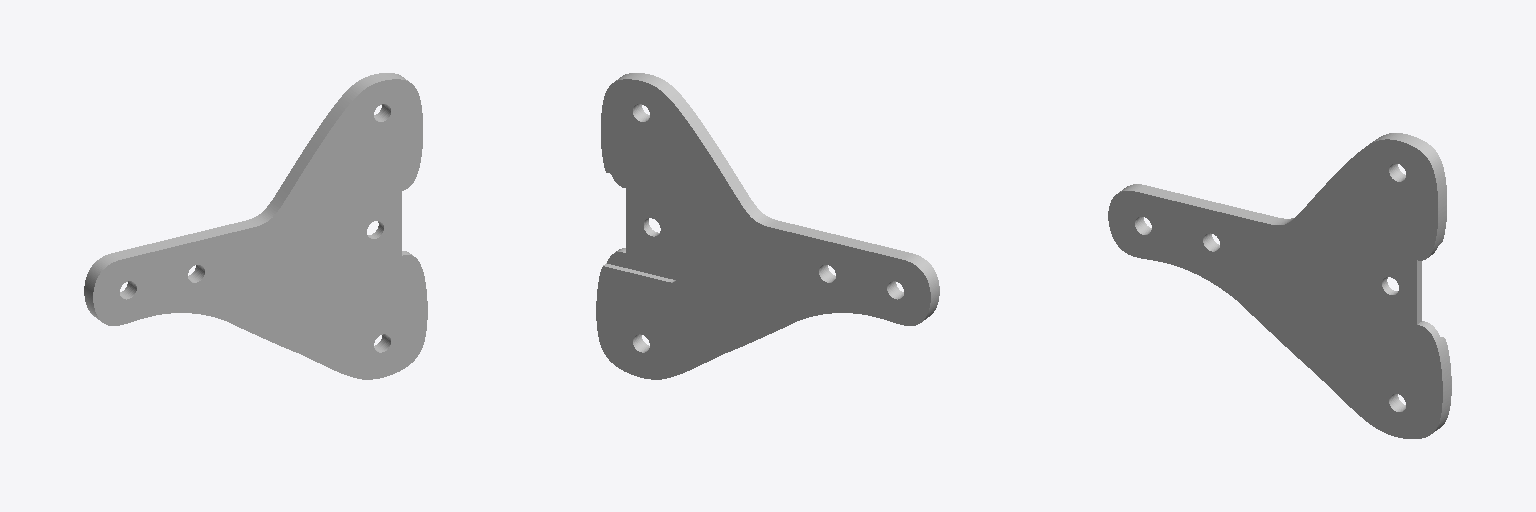
Rendered from IdleMountPlate.obj.
3 views of the same model, side by side, from view 1: azimuth 30°, elevation 25°; view 2: azimuth 150°, elevation 25°; view 3: azimuth 330°, elevation 25° (orthographic).
Visible parts, largest first — view 1: Body1; view 2: Body1; view 3: Body1.
Part boxes in pixels (x1,y1,x2,y2): Body1: (84, 73, 427, 379); Body1: (596, 73, 939, 379); Body1: (1108, 133, 1451, 438).
Bounding box in the file's own units: 108 × 91.41 × 5.